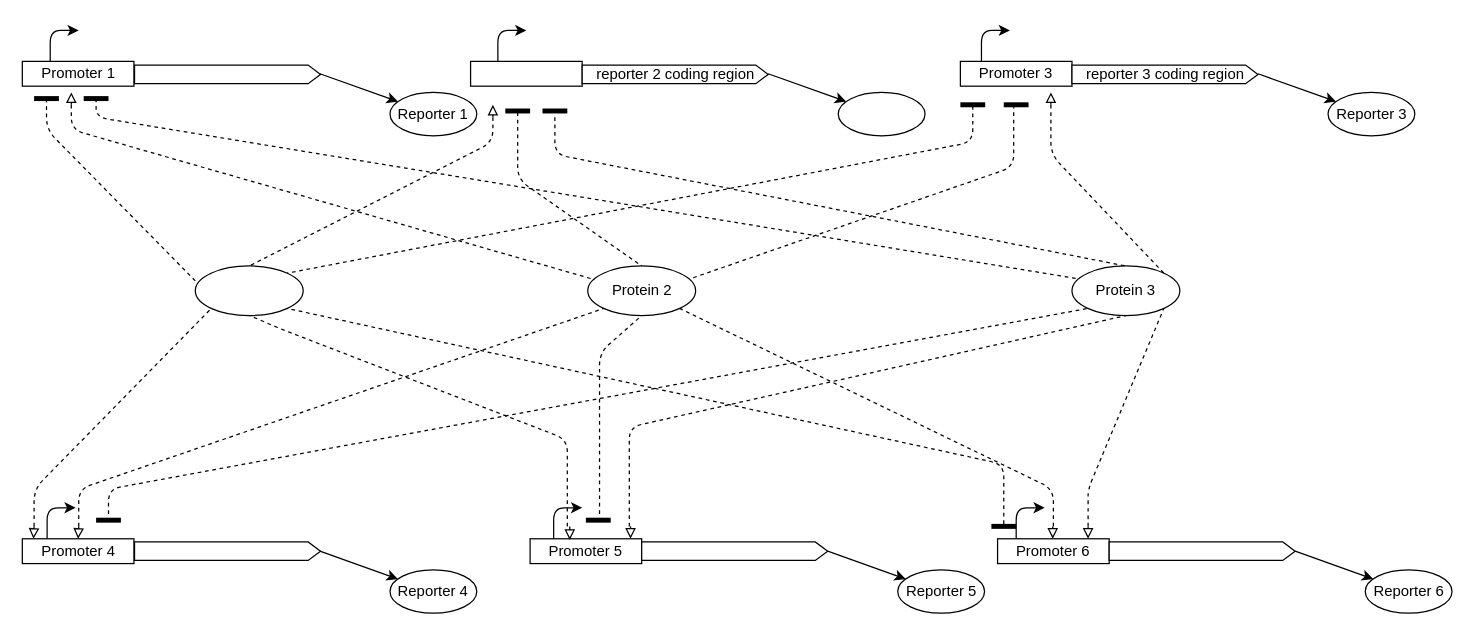
Image size: 1473x635. Some labels were removed from this diagram. Each missing label, with the centre of its shape:
Promoter 2: point (525, 73)
Protein 1: point (248, 290)
reporter 1 coding region: point (227, 74)
Reporter 2: point (881, 113)
reporter 4 coding region: point (227, 550)
reporter 5 coding region: point (734, 550)
reporter 6 coding region: point (1201, 550)
